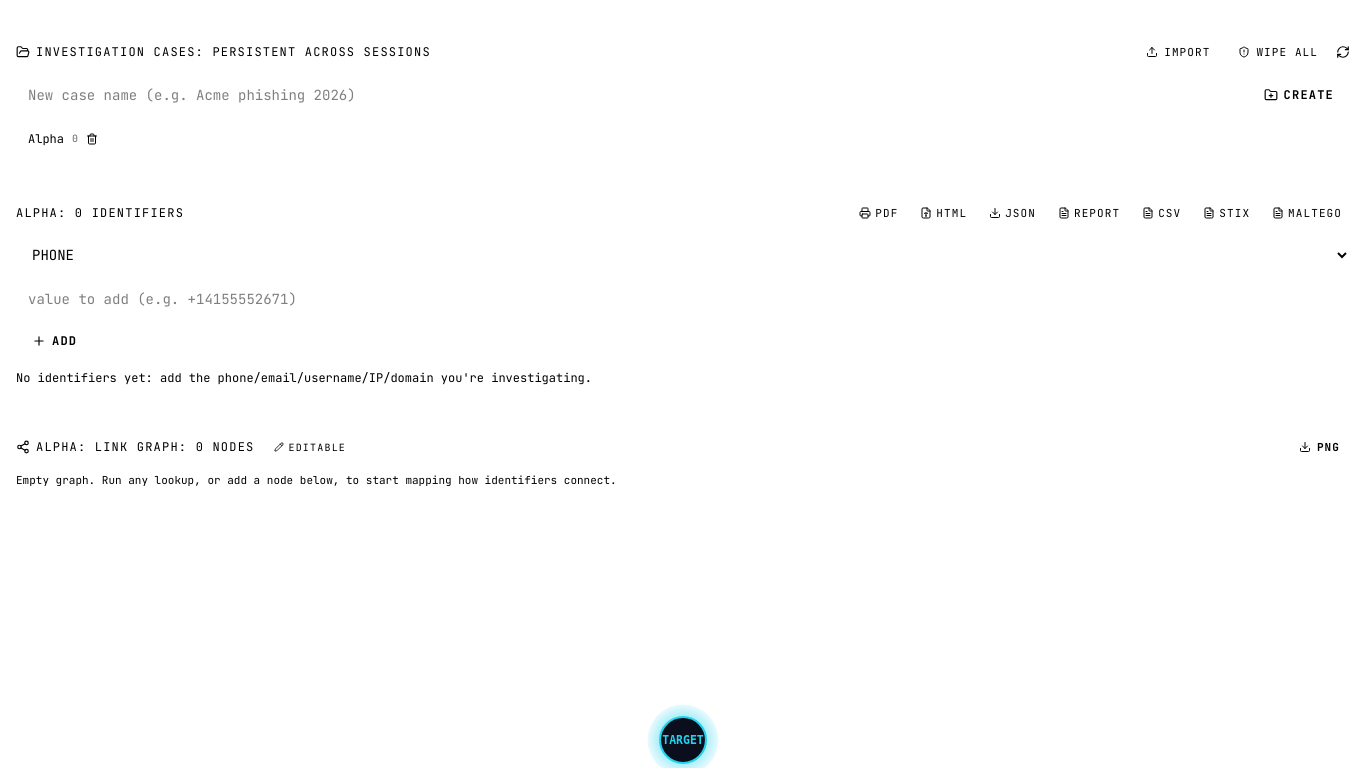
Test: <CasesPanel> create / delete › keeps a case visible when the server refuses to delete it
This screenshot has width=1366, height=768.
Click the button named "Delete Alpha" at point(92, 138), box [86,132,98,144]
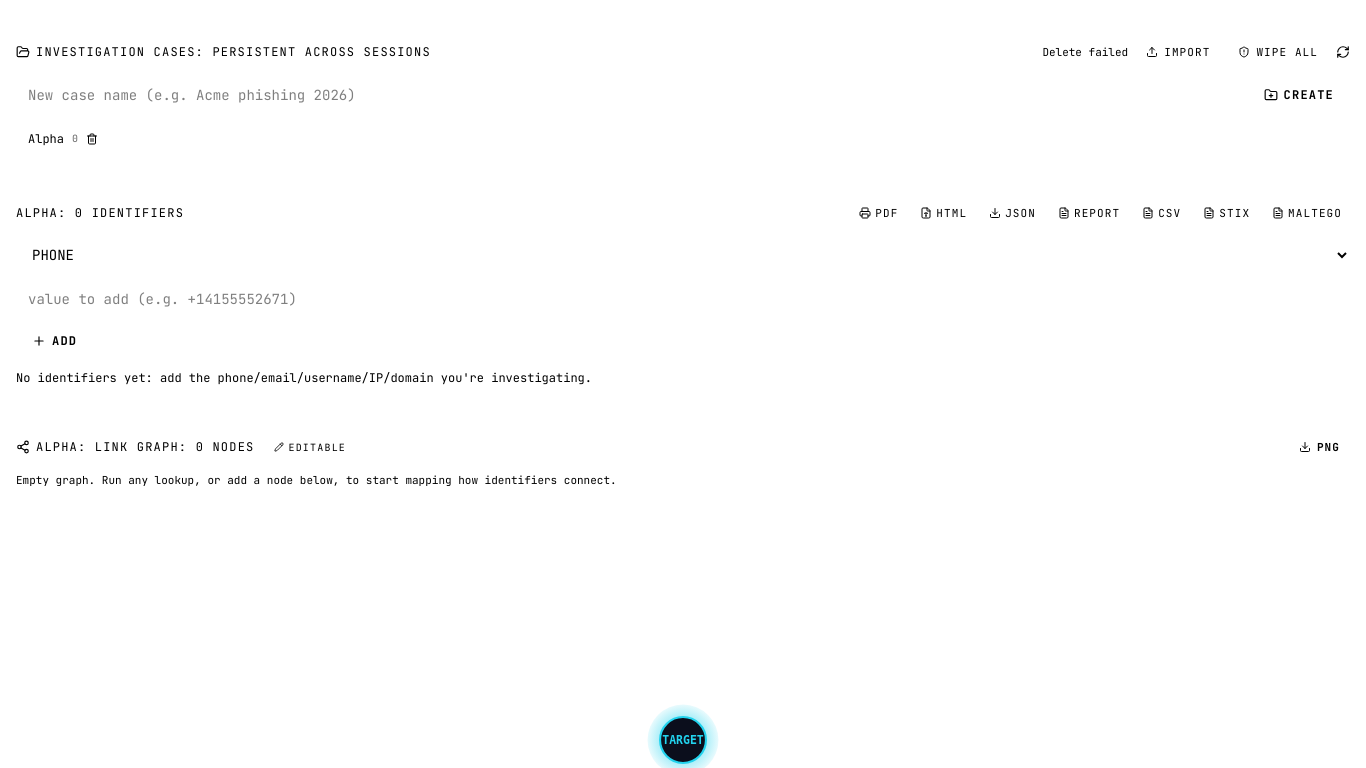
Check: the button "Alpha 0" is shown, box [16,124,110,152]
Check: the text "Delete failed" is shown, box [1042,44,1128,60]
